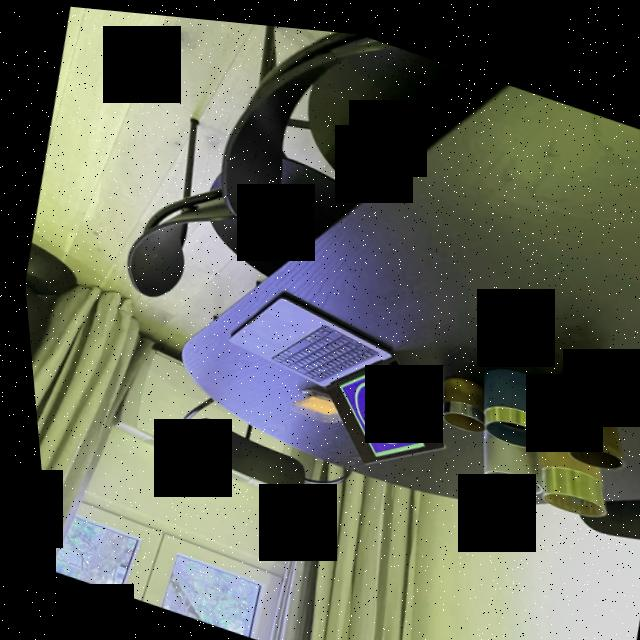Marker: (316, 347, 434, 466)
